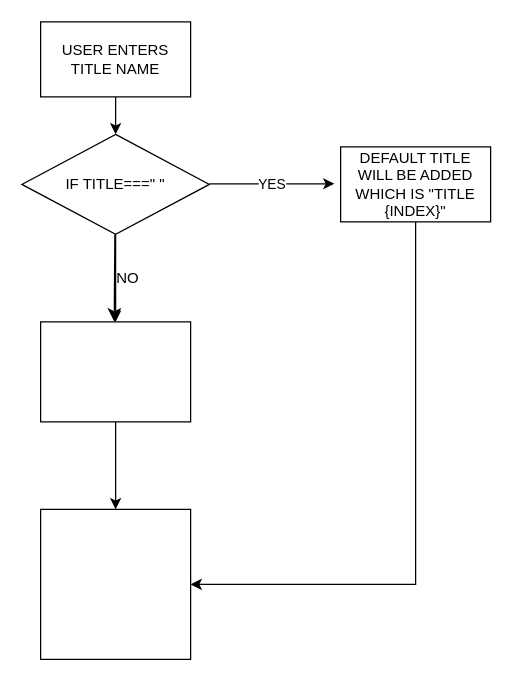
This 513x681 diagram has some shape labels left out. Here are the shapes that lost their labels. From the top down, the centre of each, then its label:
At (x=115, y=371): "TASK COMPONENT IS ADDED TO THE LIST WITH THE USER GIVEN TITLE NAME".
At (x=115, y=583): "USER CAN ADD SAVE UPDATE DELETE THE TASKS".
